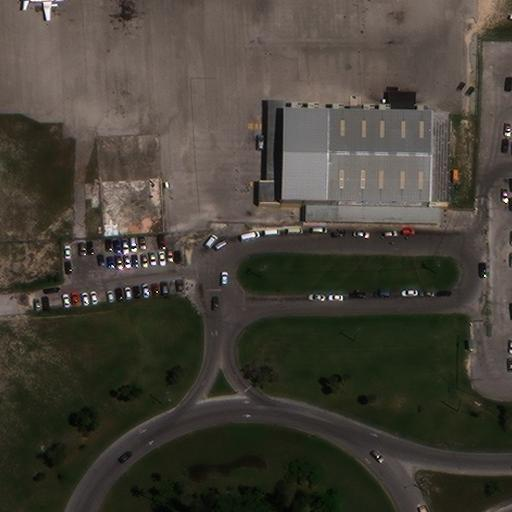Small Civil Transport: (19, 0, 67, 20)
